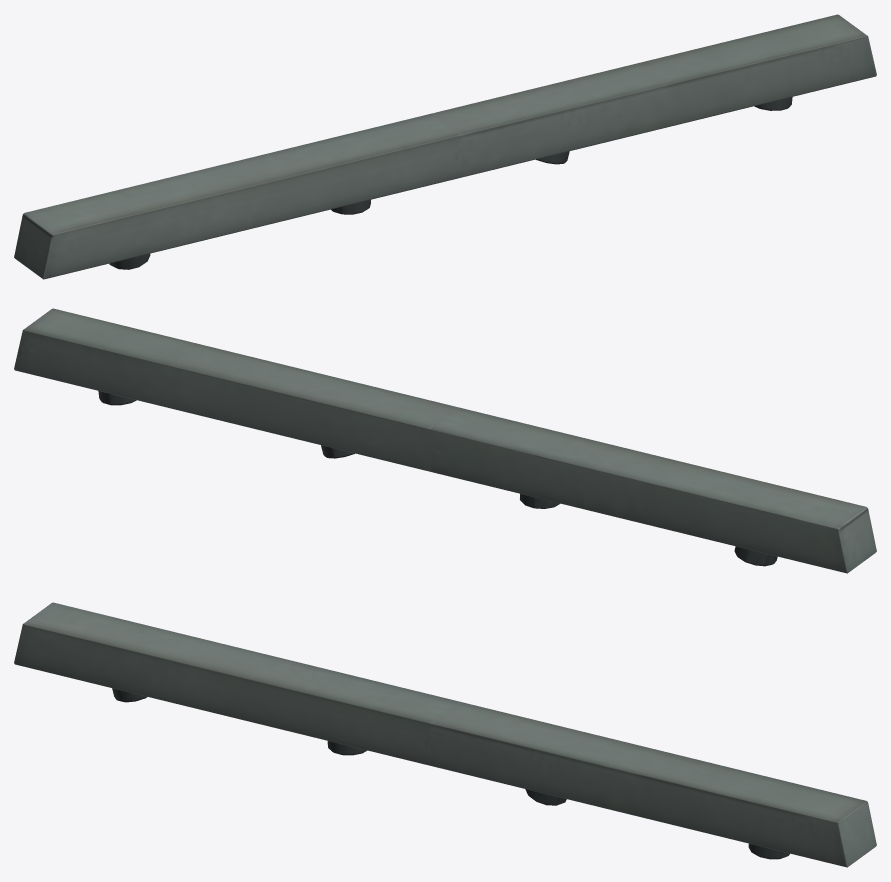
Rendered from SM_CeilingLampSpecial.glb.
3 views of the same model, one above another, from view 1: azimuth 30°, elevation 25°; view 2: azimuth 150°, elevation 25°; view 3: azimuth 330°, elevation 25° (orthographic).
Parts seen in each view (by area): view 1: SM_CellingLamp_special; view 2: SM_CellingLamp_special; view 3: SM_CellingLamp_special.
Boxes of the visible parts, bbox=[...] form: SM_CellingLamp_special: bbox=[14, 14, 876, 279]; SM_CellingLamp_special: bbox=[14, 308, 876, 573]; SM_CellingLamp_special: bbox=[14, 602, 876, 867].
Size of the model in its own units: 2 by 0.1462 by 0.1248.
Materials: 1 (1 with a texture image).
